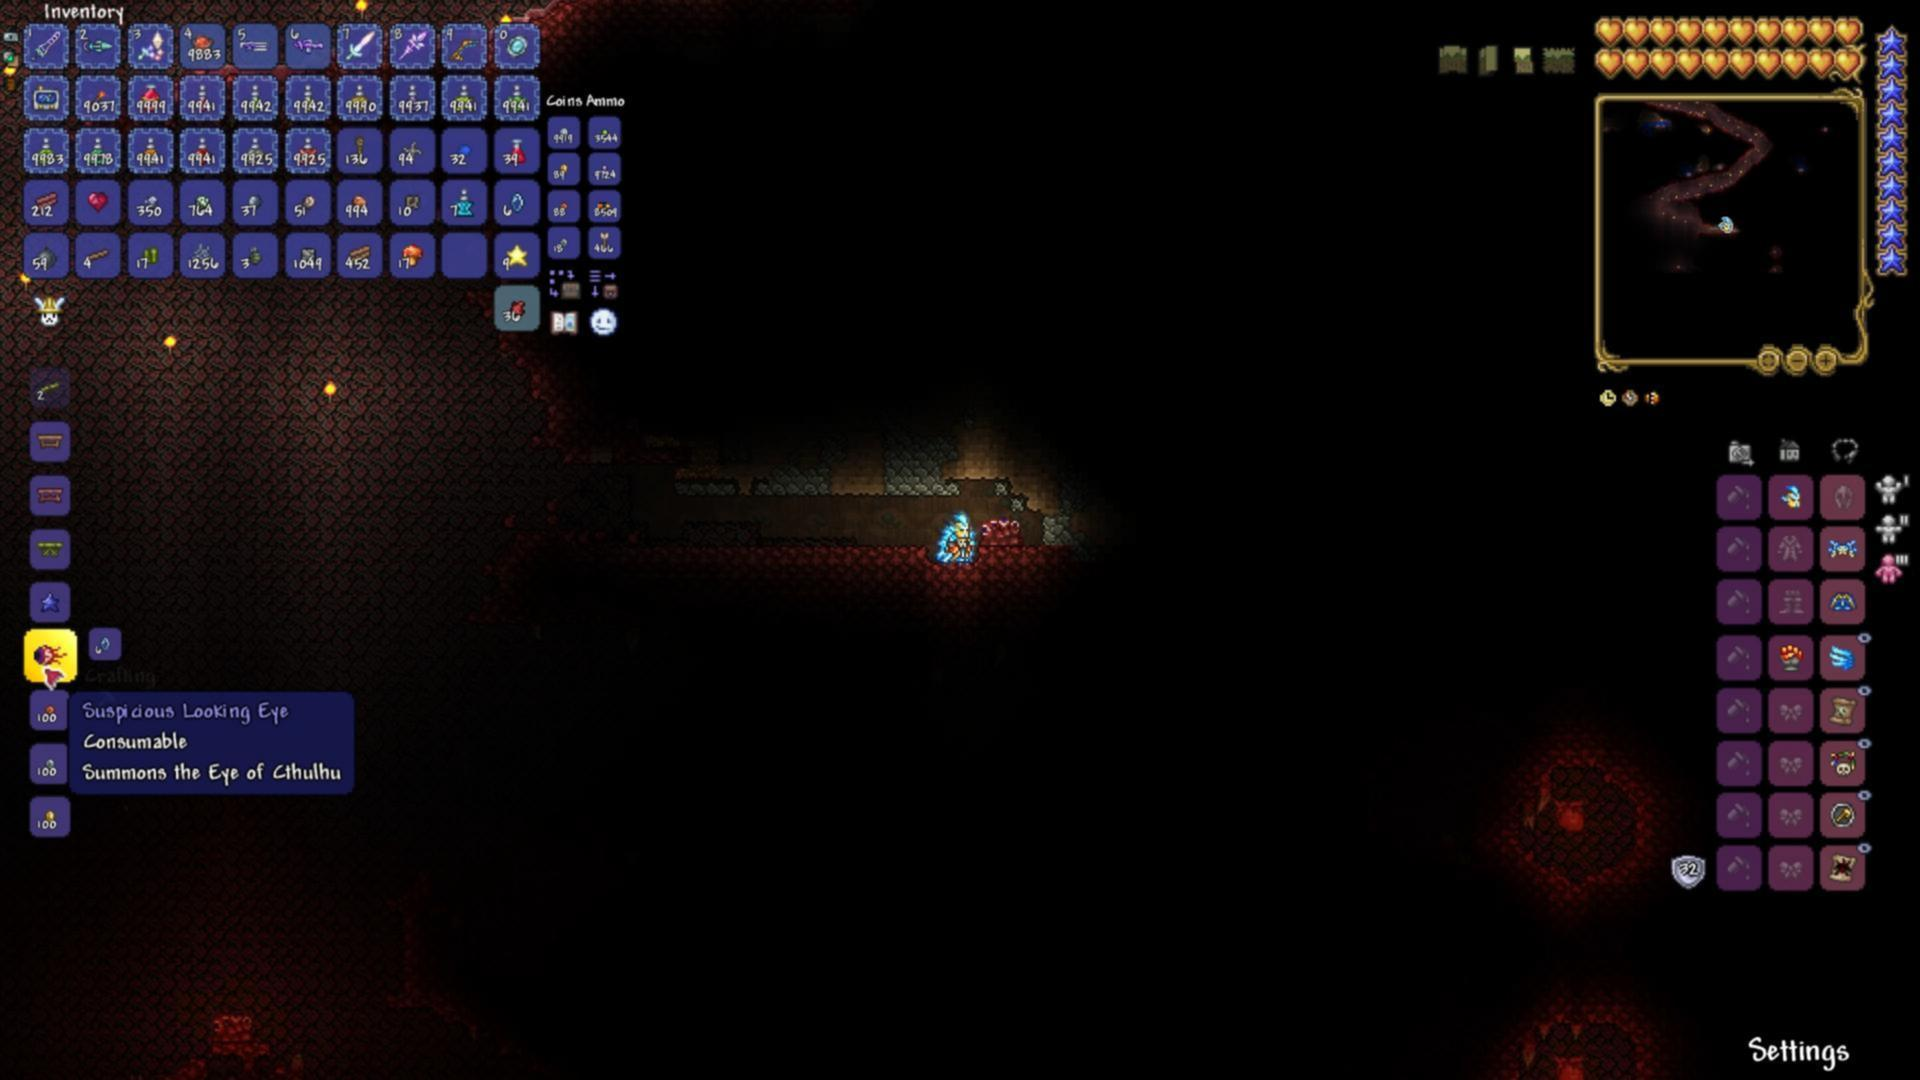mirror: (504, 33, 531, 61)
